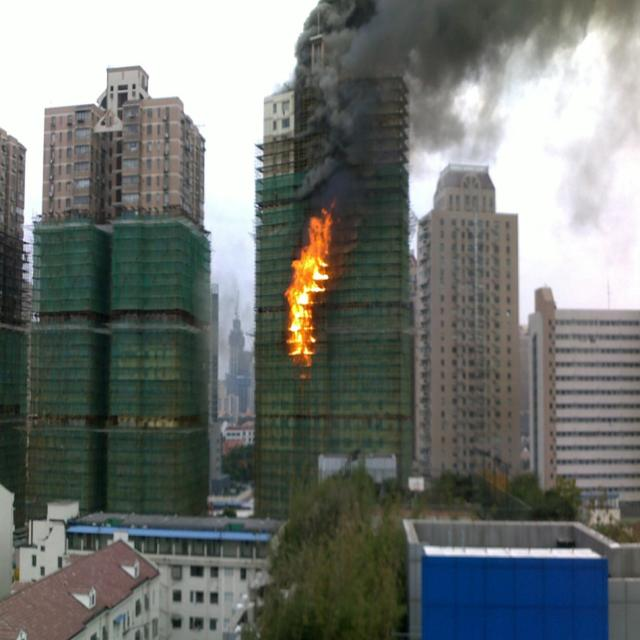Fire: (285, 212, 341, 362)
Smoke: (297, 0, 608, 207)
